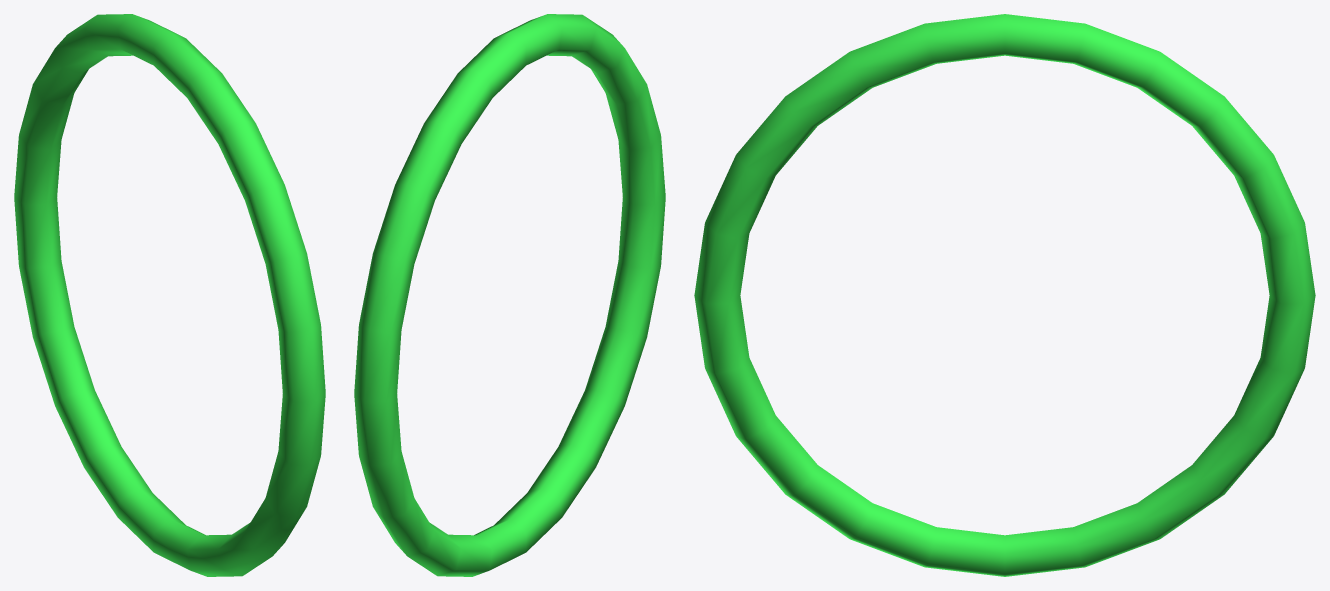
File: Ring.FBX
The picture shows the model from 3 angles, left to right: view 1: azimuth 30°, elevation 25°; view 2: azimuth 150°, elevation 25°; view 3: azimuth 270°, elevation 25°; orthographic projection. The views are drawn at different scales.
Visible parts, largest first — view 1: Torus01; view 2: Torus01; view 3: Torus01.
Part boxes in pixels (left/top/right/bottom): Torus01: left=14, top=14, right=325, bottom=576; Torus01: left=354, top=14, right=665, bottom=576; Torus01: left=694, top=14, right=1315, bottom=576.
Size of the model in its own units: 10.56 by 165 by 165.
